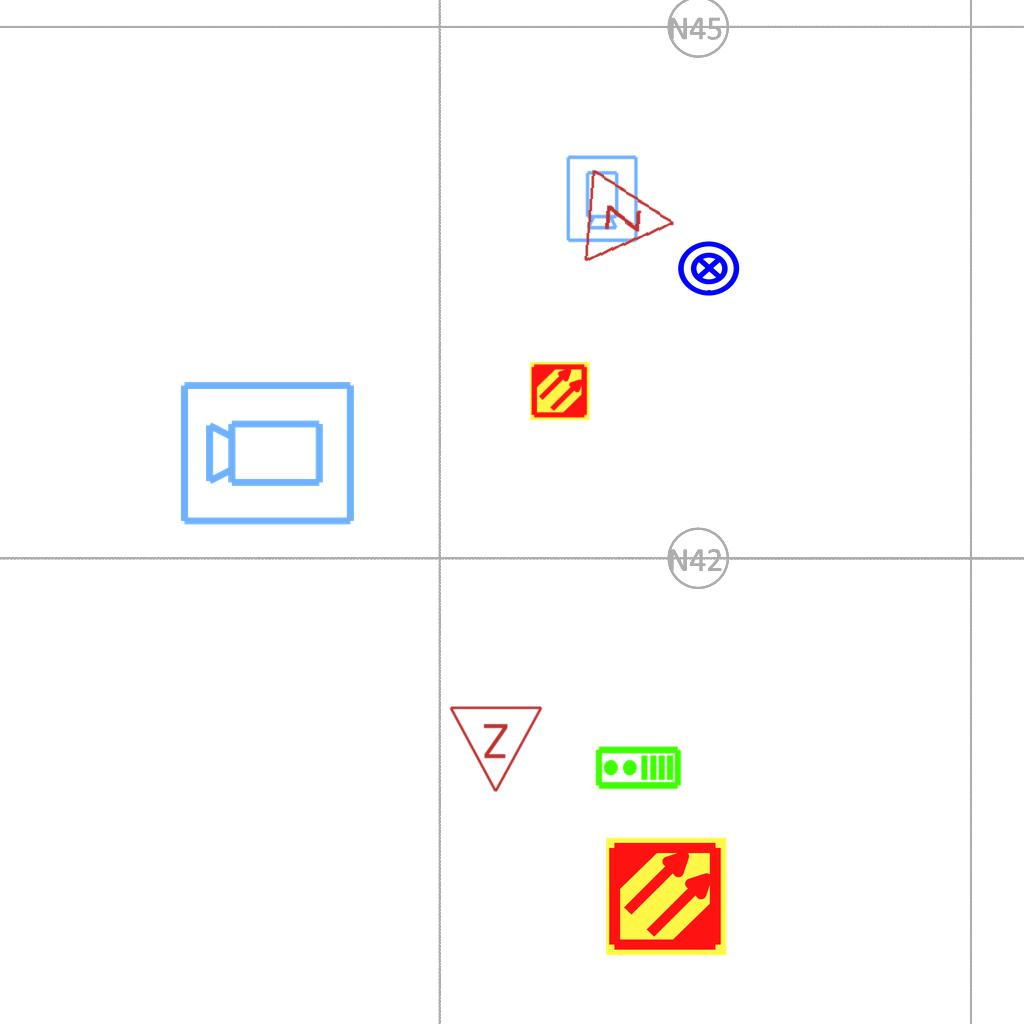ASR_Ansaugrauchmelder: (604, 834, 729, 959), (529, 360, 591, 422)
Gegensprechanlage_mit_Video: (594, 745, 682, 792)
KFO_Kamera_mit_Festobjektiv: (177, 375, 359, 529), (563, 153, 640, 244)
Taster_beleuchtet: (676, 235, 742, 301)
Zimmersignalleuchte: (576, 164, 686, 272), (448, 699, 546, 799)
